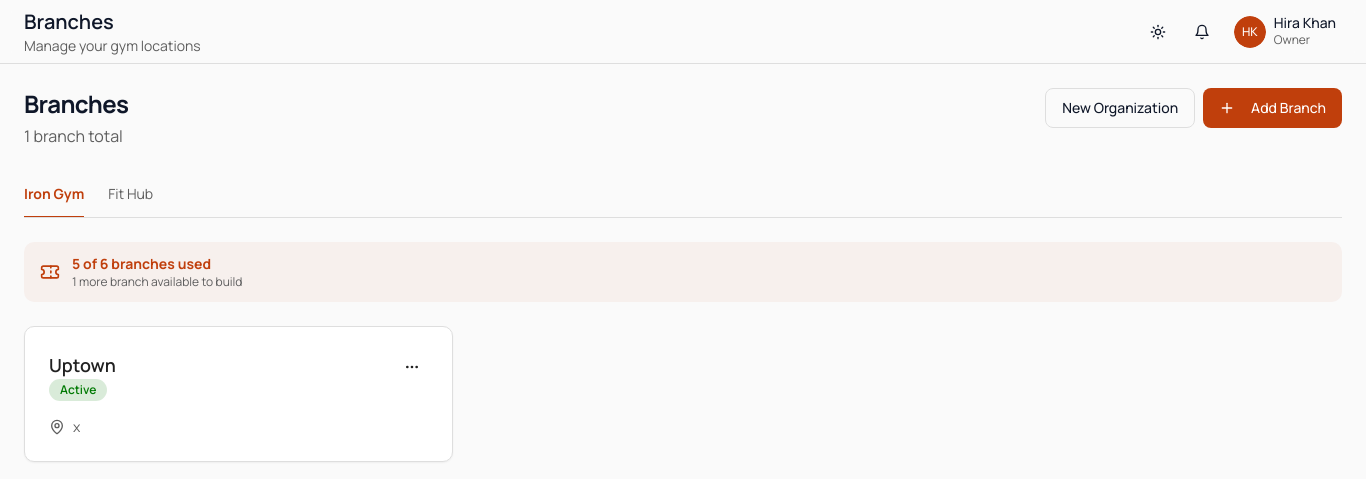
Scenario: Organization strip (mobile _buildSubTabBar) › shows the owner’s organizations as tabs and lists the selected organization’s branches
Expected: the heading "Uptown" is shown, [49,351,116,379]
Click the tab "Fit Hub" at (131, 195), box [108,172,153,218]
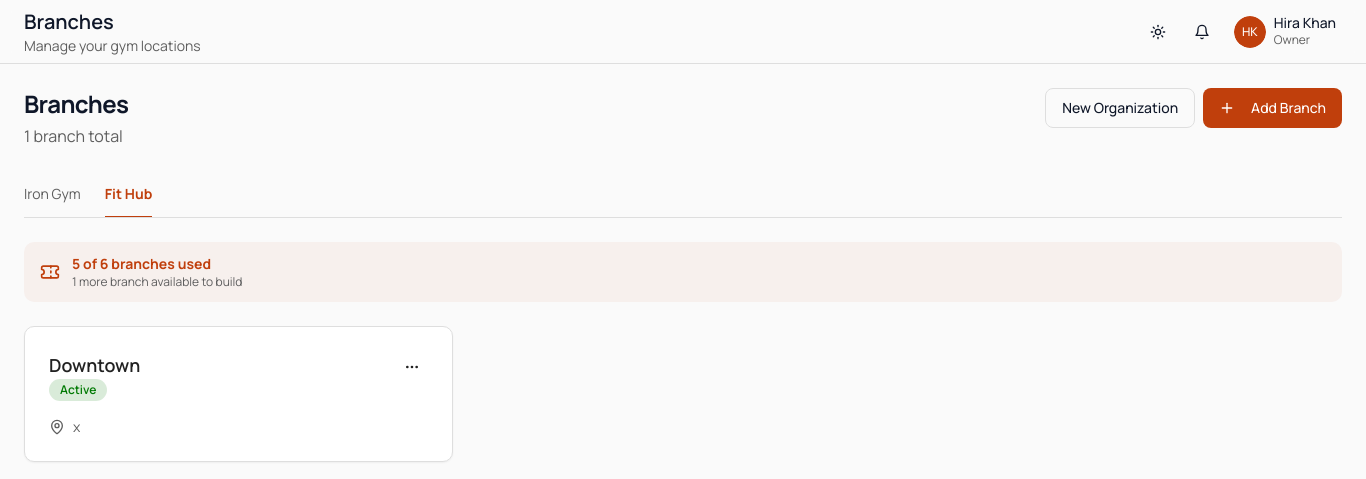
Expected: the heading "Downtown" is shown, [49,351,140,379]
Expected: the heading "Uptown" is gone
